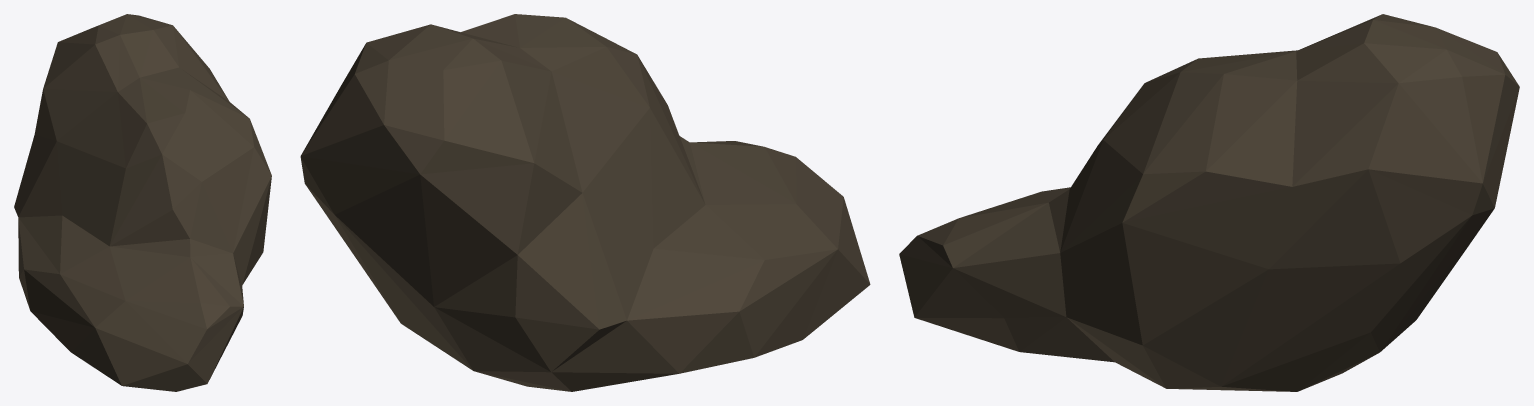
File: rock8.fbx
The picture shows the model from 3 angles, left to right: view 1: azimuth 30°, elevation 25°; view 2: azimuth 150°, elevation 25°; view 3: azimuth 270°, elevation 25°; orthographic projection. The views are drawn at different scales.
Parts seen in each view (by area): view 1: Rock8; view 2: Rock8; view 3: Rock8.
Boxes of the visible parts, <box> form: Rock8: <box>14,14,271,391</box>; Rock8: <box>300,14,870,391</box>; Rock8: <box>899,14,1519,391</box>.
Size of the model in its own units: 3.05 by 2.93 by 4.76.
